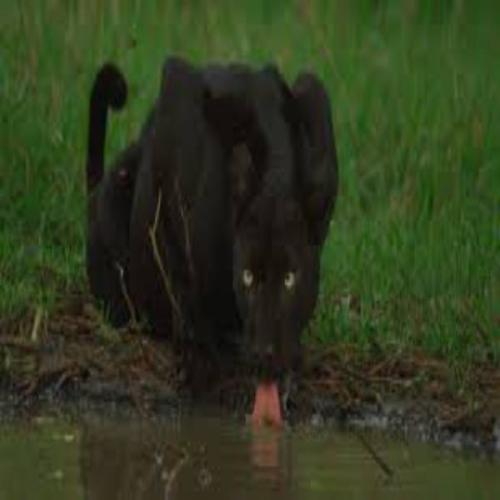panther-endangered: (84, 55, 341, 433)
